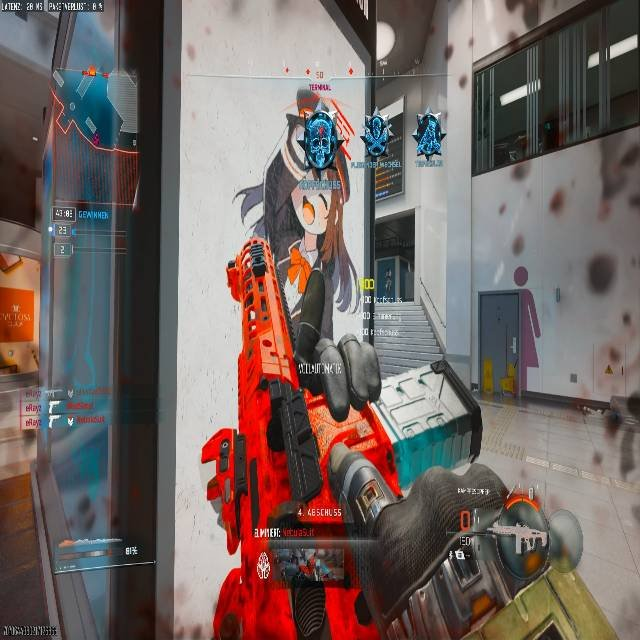head: (373, 463, 510, 606), (488, 496, 552, 573)
player: (195, 378, 611, 640), (413, 108, 445, 163)
